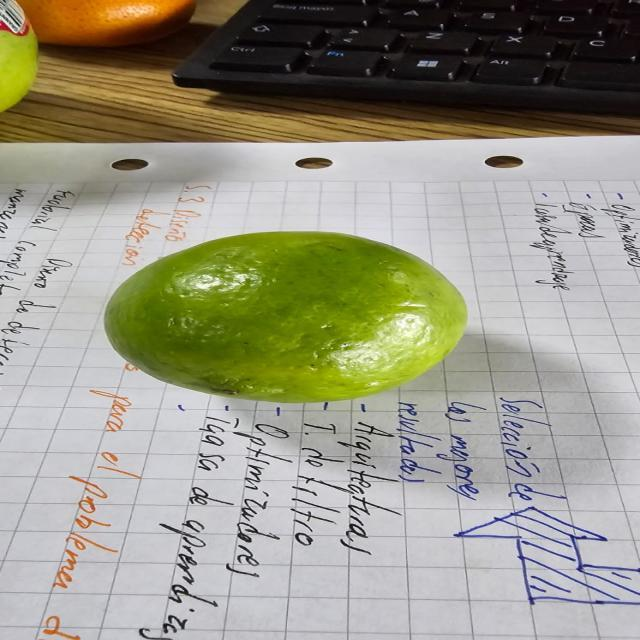Lemon: (96, 226, 478, 405)
